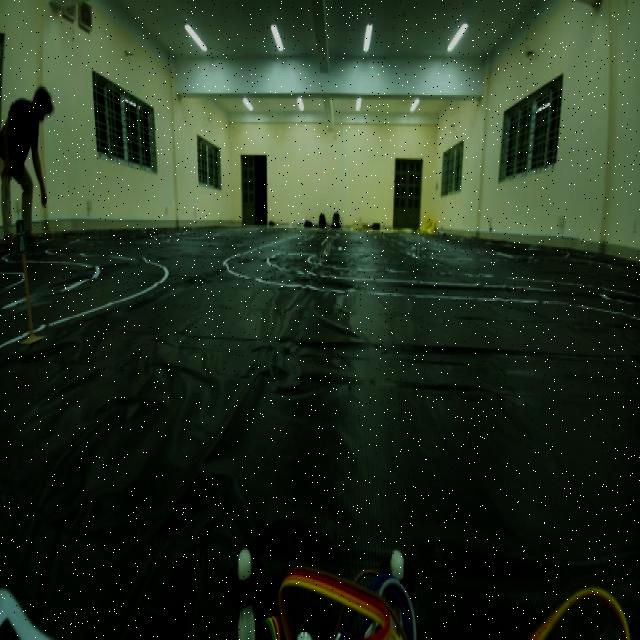highway_entry: (15, 214, 28, 260)
